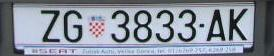-: (198, 22, 205, 28)
3: (156, 9, 174, 43), (112, 9, 129, 43), (179, 9, 196, 43)
8: (133, 10, 152, 43)
A: (208, 9, 225, 42)
G: (64, 10, 83, 43)
K: (230, 8, 247, 41)
Z: (40, 9, 60, 42)
